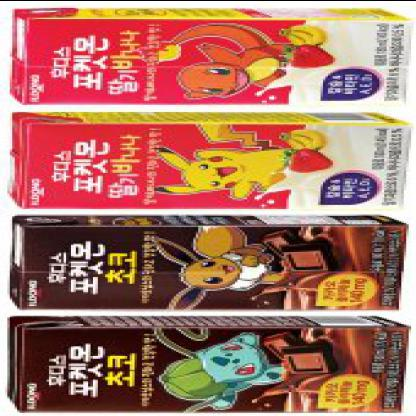tetra: (0, 1, 414, 111), (0, 107, 414, 215), (0, 309, 415, 415), (0, 210, 414, 314)
